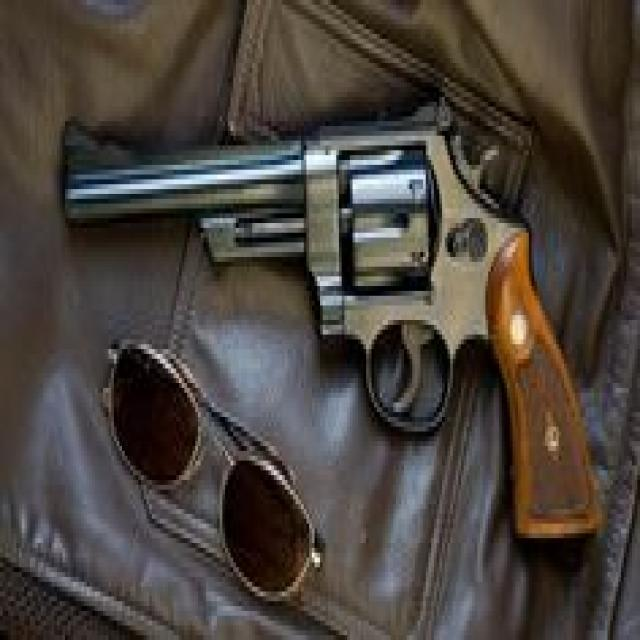revolver: (44, 0, 610, 543)
